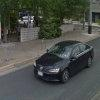Car: (27, 35, 94, 85)
